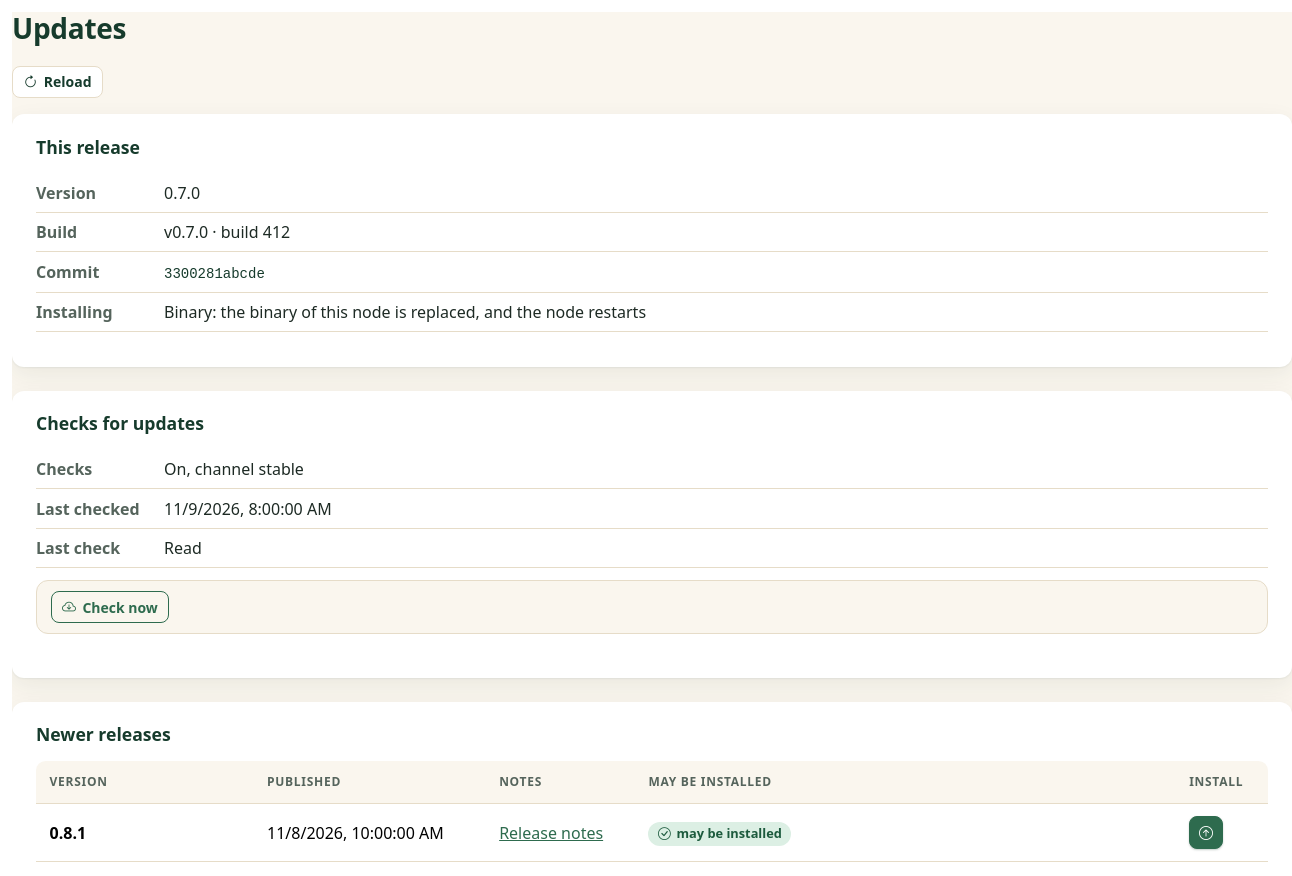
Updates: check now › says when to try again when the node checked less than a minute ago
Click the button "Check now": coordinates (110, 607) 51,591 -> 169,623
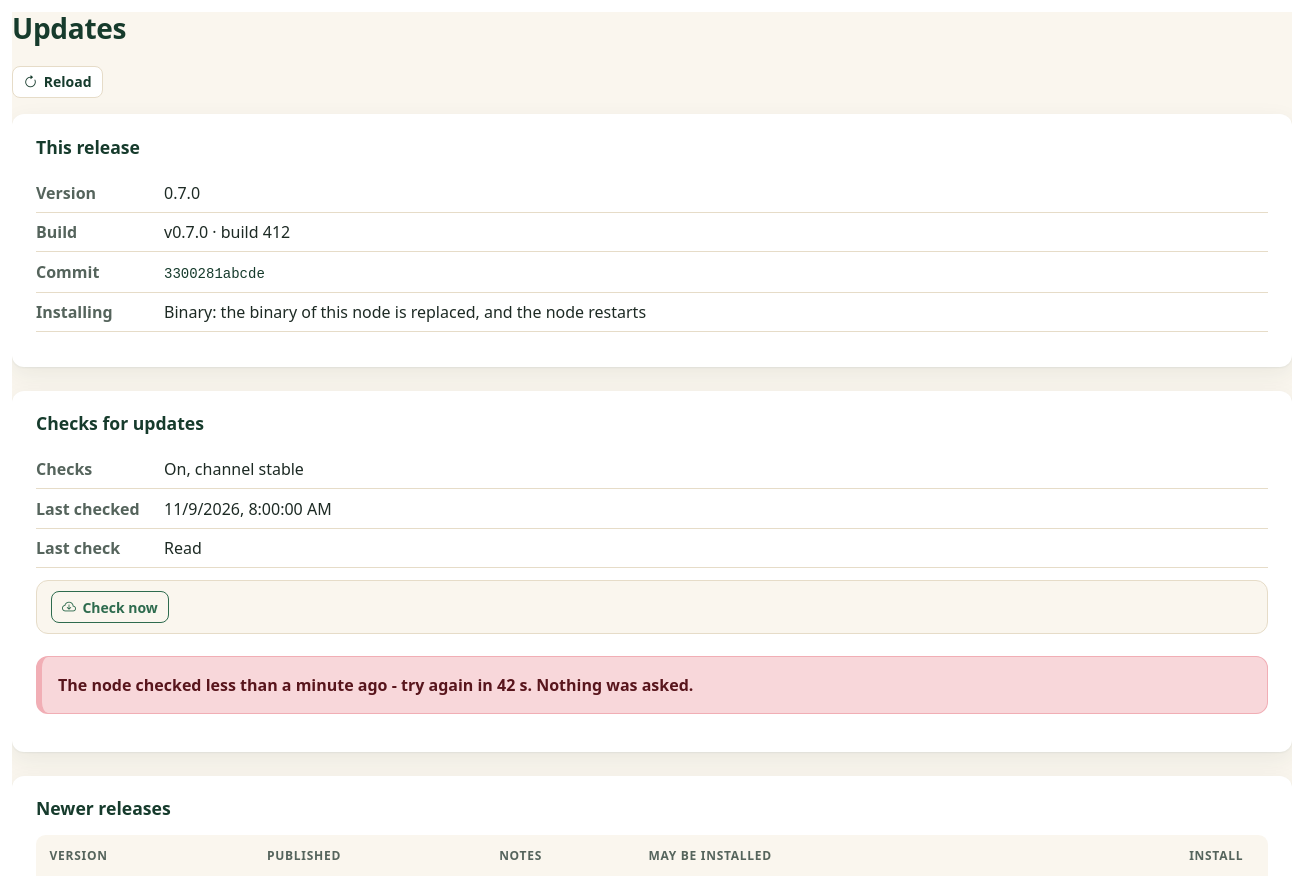
Now the message shows "try again in 42 s", box 58,674 -> 693,696
